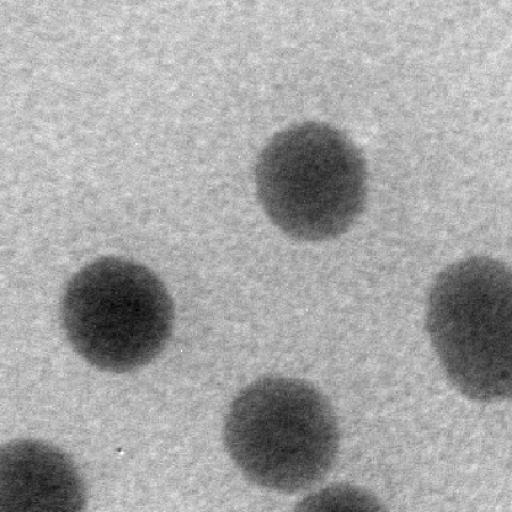Nanoparticles: (250, 118, 371, 244), (60, 254, 176, 378), (222, 375, 340, 492), (422, 251, 512, 352), (0, 436, 88, 512), (441, 306, 512, 400), (279, 480, 388, 512)
